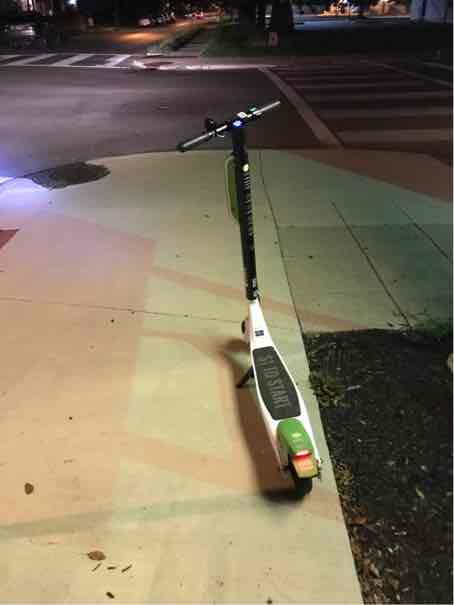scooter: (160, 94, 362, 507)
